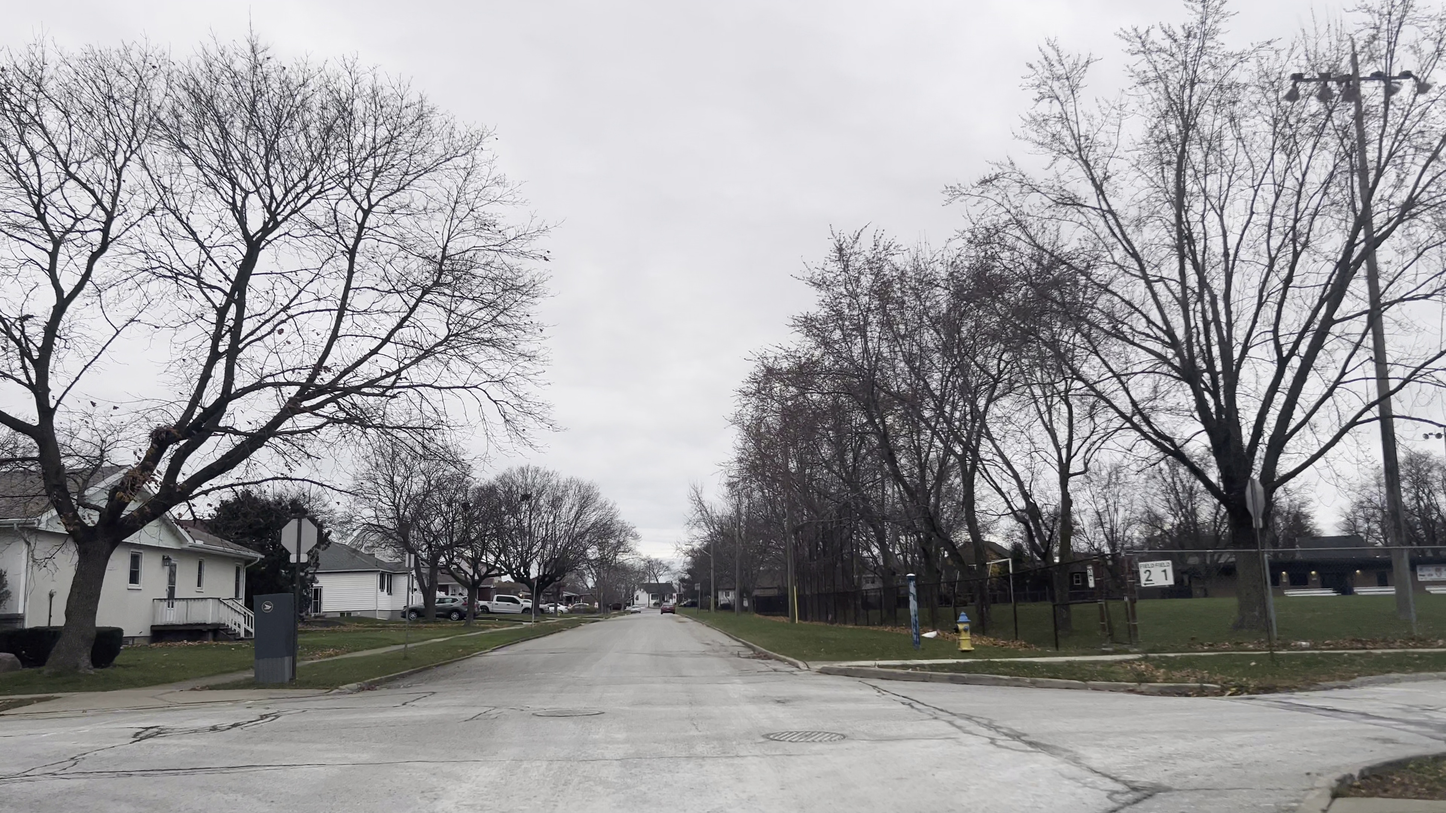cracks: (933, 703, 1051, 752), (1066, 772, 1190, 807), (198, 699, 295, 739), (118, 716, 177, 749)
